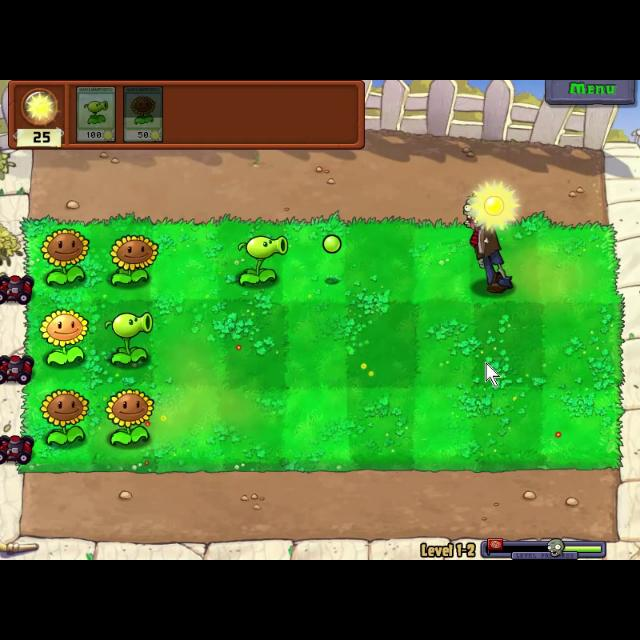Garden: (18, 214, 626, 472)
Menu Button: (543, 80, 635, 106)
Mower: (0, 429, 34, 469), (0, 270, 34, 308), (1, 351, 34, 387)
Peashooter: (73, 84, 117, 144)
Peashooter Seed: (234, 232, 288, 288), (103, 310, 153, 370)
Seed Panel: (5, 80, 368, 152)
Sun: (468, 178, 522, 236)
Sunflower: (121, 82, 165, 146)
Sunflower Seed: (34, 304, 88, 368), (103, 388, 157, 450), (109, 235, 165, 288), (39, 389, 90, 447), (39, 228, 89, 286)
Zombie: (460, 196, 518, 296)
